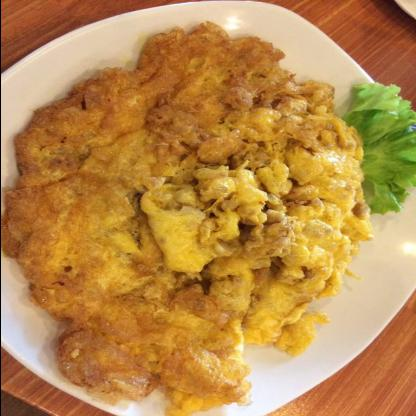Omelette: (23, 25, 384, 415)
